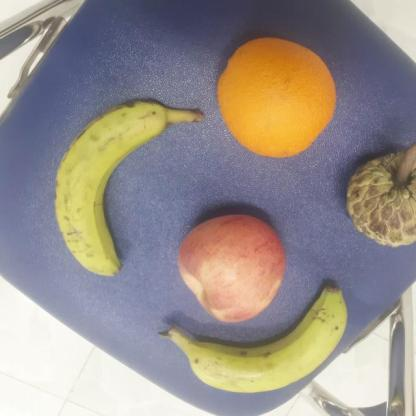annona: (340, 138, 416, 250)
apple: (174, 208, 289, 326)
banana: (50, 97, 206, 277), (166, 278, 353, 394)
orange: (213, 31, 339, 163)
